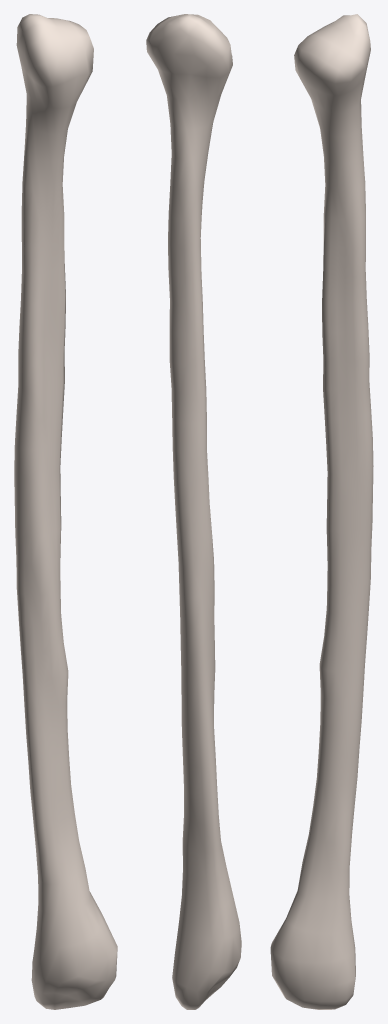
The model's file is frau2-1046.glb.
3 renders of one model, left to right at view 1: azimuth 90°, elevation 25°; view 2: azimuth 150°, elevation 25°; view 3: azimuth 270°, elevation 25°, orthographic.
Visible parts, largest first — view 1: VH_F_fibula_L; view 2: VH_F_fibula_L; view 3: VH_F_fibula_L.
Boxes of the visible parts, x1=… form: VH_F_fibula_L: x1=14, y1=14, x2=117, y2=1009; VH_F_fibula_L: x1=146, y1=14, x2=241, y2=1009; VH_F_fibula_L: x1=270, y1=14, x2=373, y2=1009.
Size of the model in its own units: 0.0283 by 0.3372 by 0.0318.
